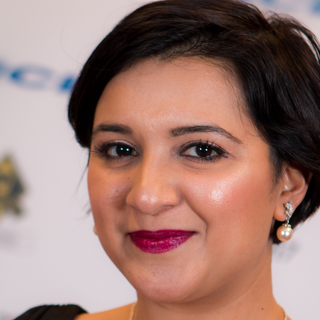eye: (171, 138, 227, 166), (92, 136, 144, 164)
